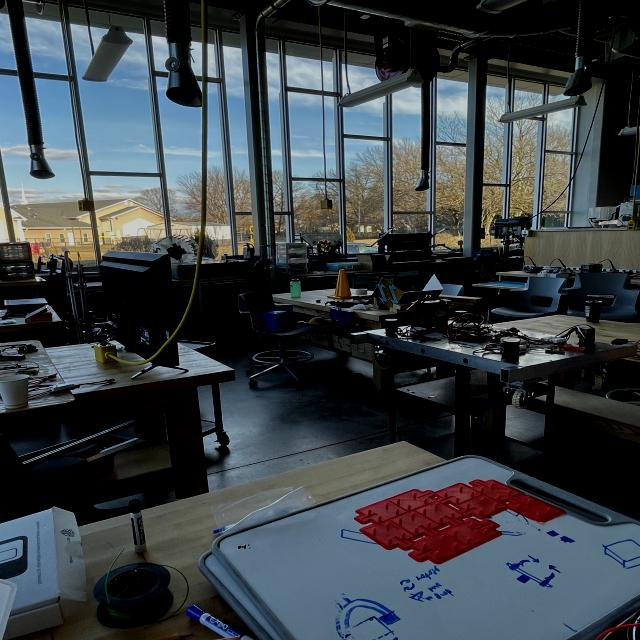frc_cone: (326, 268, 360, 302)
frc_cube: (252, 307, 296, 336)
